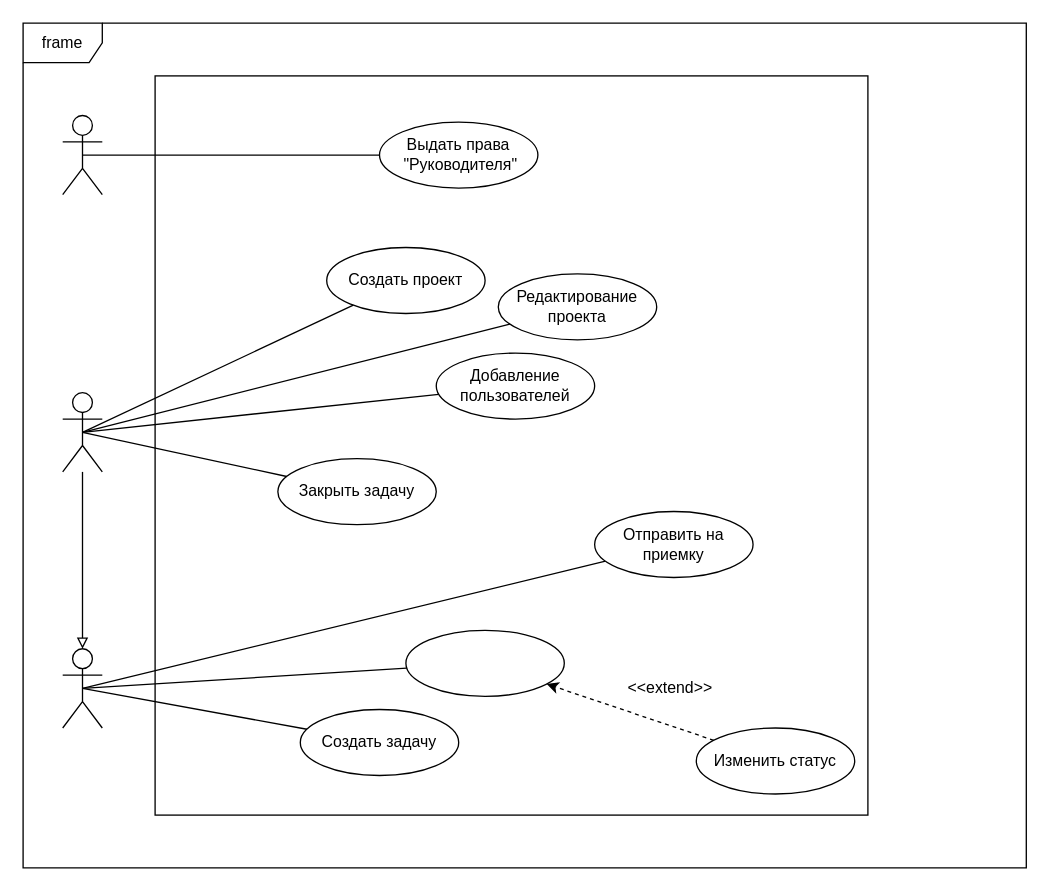
Some shapes in this 1049 by 891 pixel diagram are drawn without their labels. The box of each missing label's shape, as (x1, y1, x2, y2) in pixels:
Администратор: (61, 114, 102, 195)
Пользователь: (61, 647, 102, 728)
Редактировать задачу: (405, 629, 564, 696)
Руководитель: (61, 391, 102, 472)
